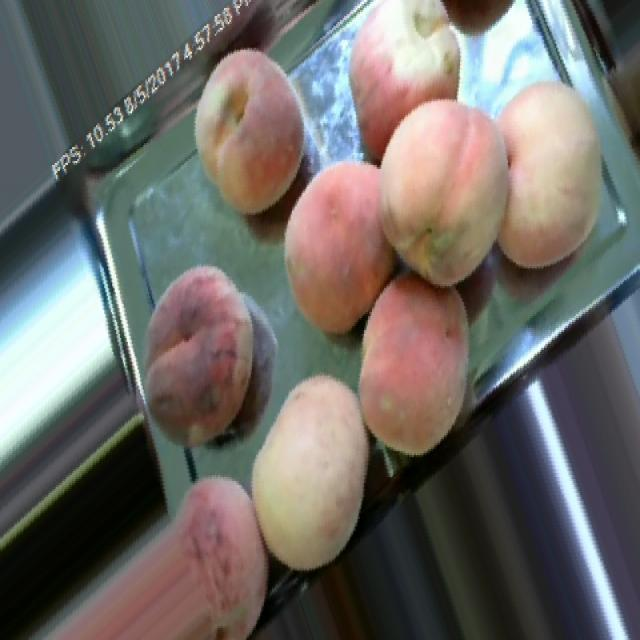Fruit: (28, 455, 305, 640), (228, 356, 404, 594), (359, 76, 536, 310), (479, 66, 632, 290), (357, 254, 511, 475), (124, 249, 275, 471), (263, 139, 416, 352), (169, 26, 323, 234)
